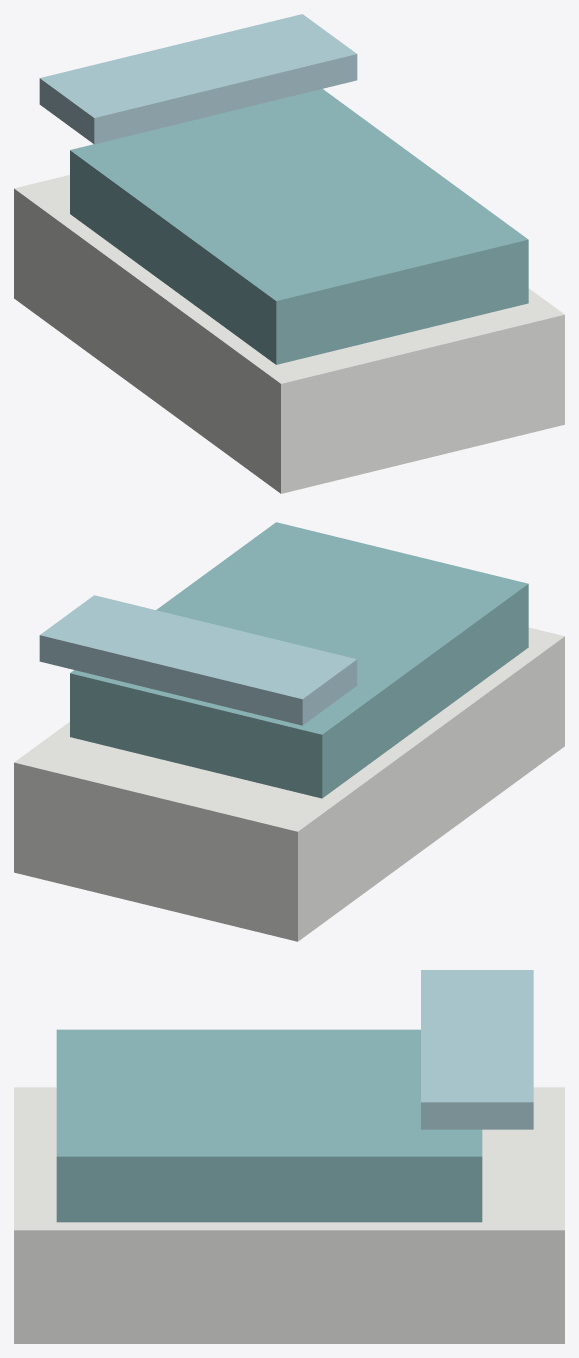
File: dream_pod.glb
The picture shows the model from 3 angles, top to bottom: view 1: azimuth 30°, elevation 25°; view 2: azimuth 150°, elevation 25°; view 3: azimuth 270°, elevation 25°; orthographic projection. The views are drawn at different scales.
Parts seen in each view (by area): view 1: part_01, part_00, part_02; view 2: part_00, part_01, part_02; view 3: part_00, part_01, part_02.
Part boxes in pixels (x1,y1,x2,y2): part_01: [70, 89, 528, 364]; part_00: [14, 175, 564, 493]; part_02: [39, 14, 357, 144]; part_00: [14, 627, 564, 941]; part_01: [70, 522, 528, 798]; part_02: [39, 595, 357, 725]; part_00: [14, 1087, 564, 1343]; part_01: [56, 1029, 482, 1222]; part_02: [421, 970, 533, 1129].
Size of the model in its own units: 1.35 by 1.04 by 2.2.
